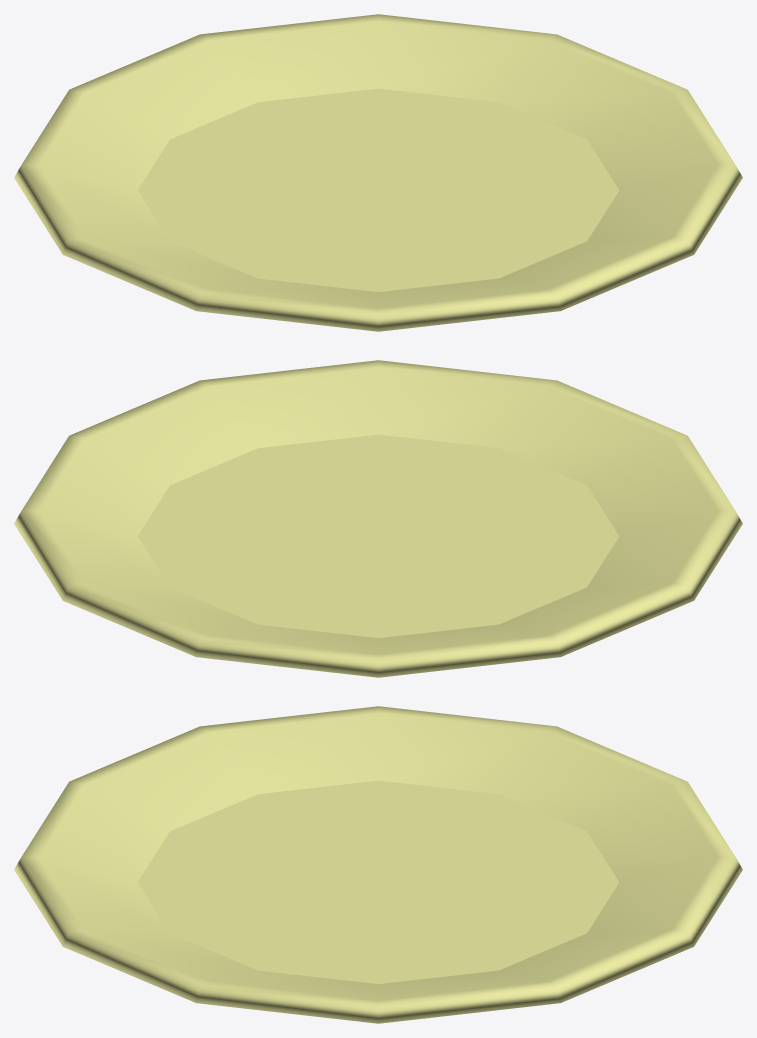
File: Plato.fbx
3 views of the same model, one above another, from view 1: azimuth 30°, elevation 25°; view 2: azimuth 150°, elevation 25°; view 3: azimuth 270°, elevation 25° (orthographic).
Visible parts, largest first — view 1: Plato; view 2: Plato; view 3: Plato.
Boxes of the visible parts, x1,y1,x2,y2 form: Plato: (14, 14, 742, 331); Plato: (14, 360, 742, 677); Plato: (14, 706, 742, 1023).
Size of the model in its own units: 0.2204 by 0.0121 by 0.2204.
